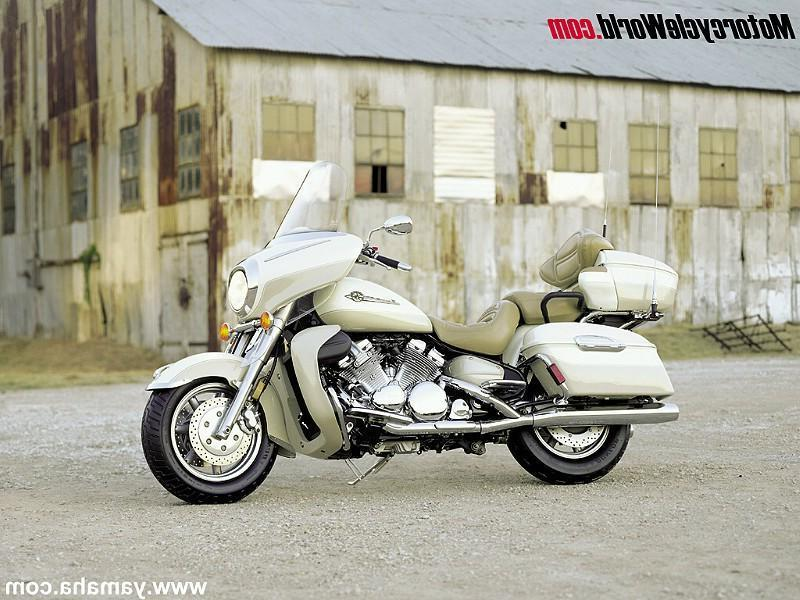motorcycle: (129, 199, 692, 524)
